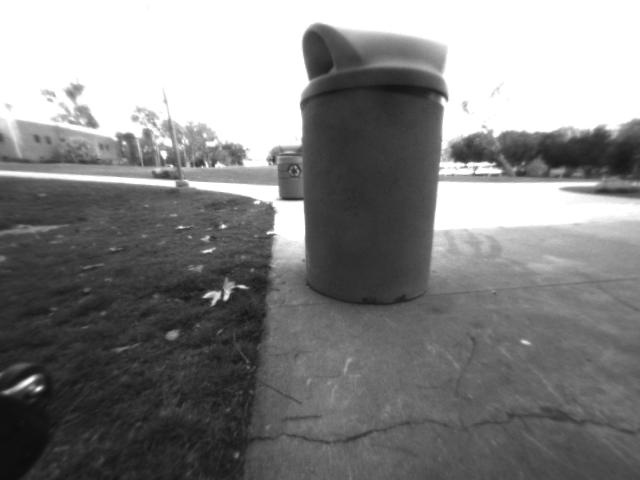trashcan: (297, 21, 452, 312)
